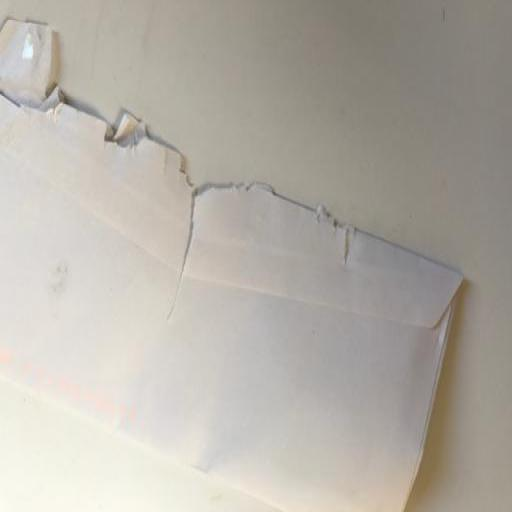paper: (0, 14, 460, 512)
